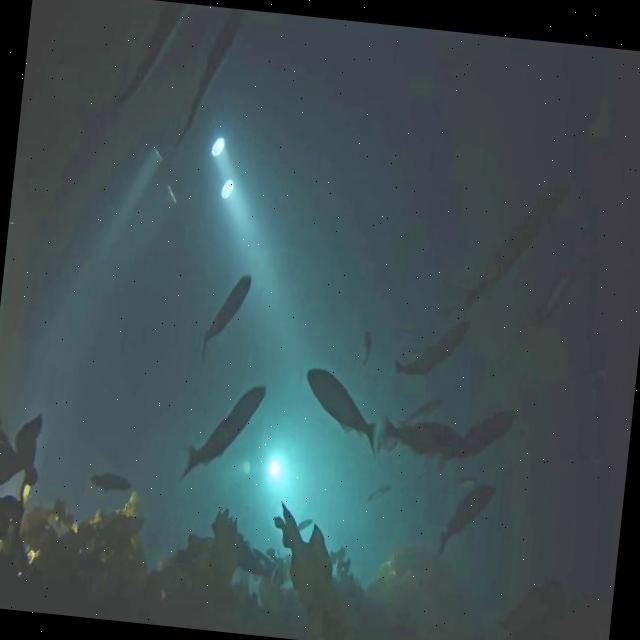fish: (476, 175, 567, 307), (104, 6, 185, 118), (188, 379, 269, 474), (190, 10, 242, 146), (302, 369, 384, 451), (397, 318, 472, 392), (202, 271, 250, 355), (442, 480, 497, 552), (469, 398, 519, 462), (386, 424, 469, 461), (92, 470, 140, 495), (359, 326, 376, 366), (369, 480, 393, 506)
